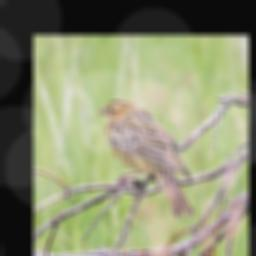Sparrow: (96, 97, 195, 222)
